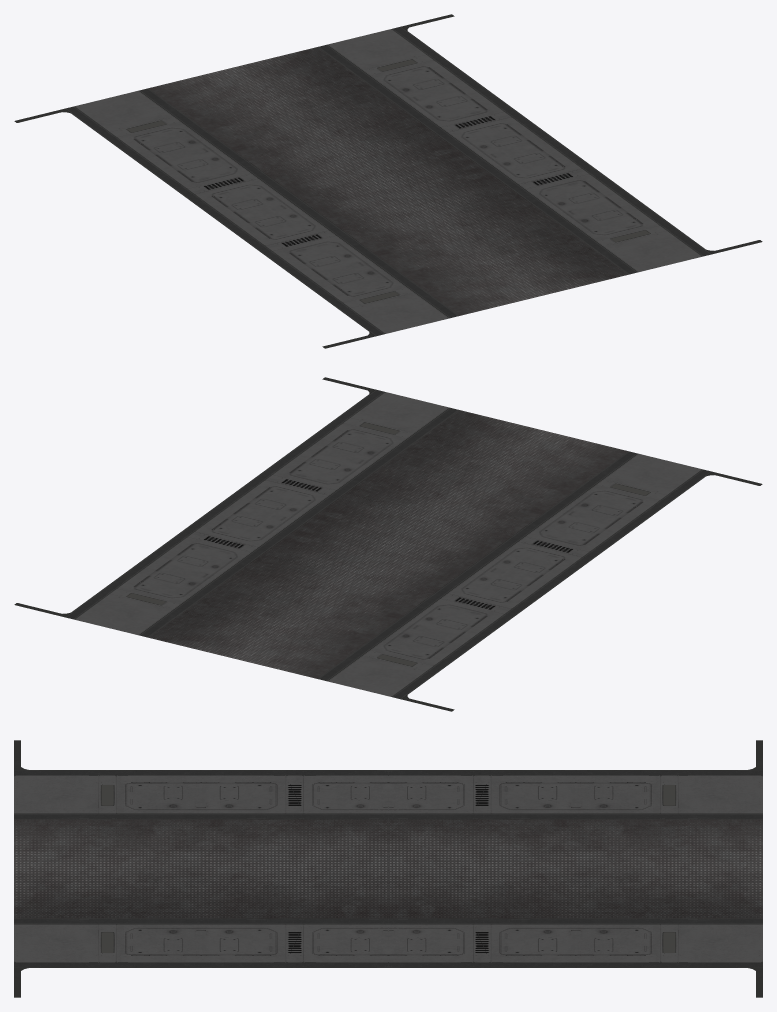
Rendered from hallway_floor.obj.
3 renders of one model, top to bottom at view 1: azimuth 30°, elevation 25°; view 2: azimuth 150°, elevation 25°; view 3: azimuth 270°, elevation 25°, orthographic. The views are drawn at different scales.
Parts seen in each view (by area): view 1: HallwayStraight001_Untitled.001; view 2: HallwayStraight001_Untitled.001; view 3: HallwayStraight001_Untitled.001.
Boxes of the visible parts, x1,y1,x2,y2 form: HallwayStraight001_Untitled.001: [14, 14, 762, 348]; HallwayStraight001_Untitled.001: [14, 377, 762, 711]; HallwayStraight001_Untitled.001: [14, 740, 762, 997].
Size of the model in its own units: 6.5 by 0 by 8.
